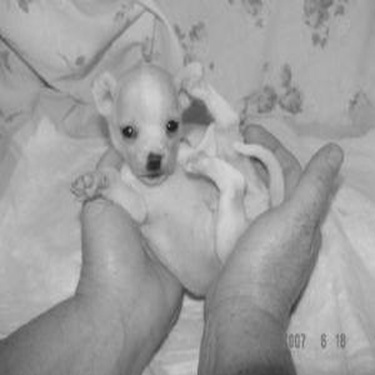dog: (67, 58, 296, 302)
